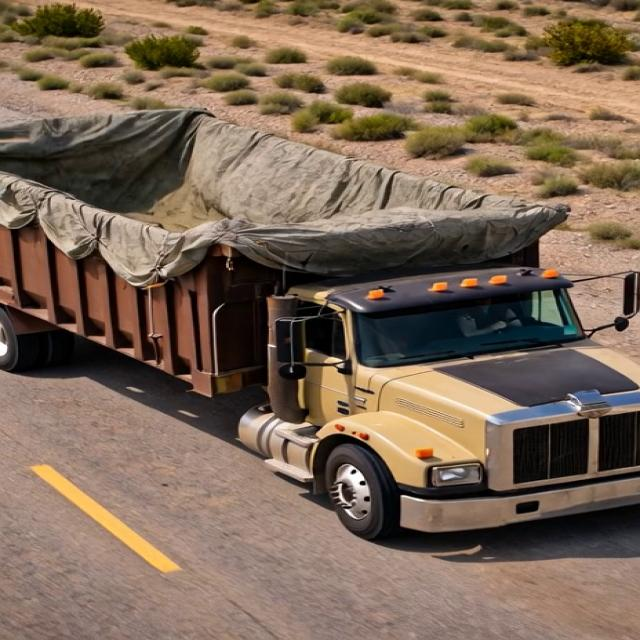trailer: (0, 110, 562, 261)
truck: (11, 86, 636, 538)
